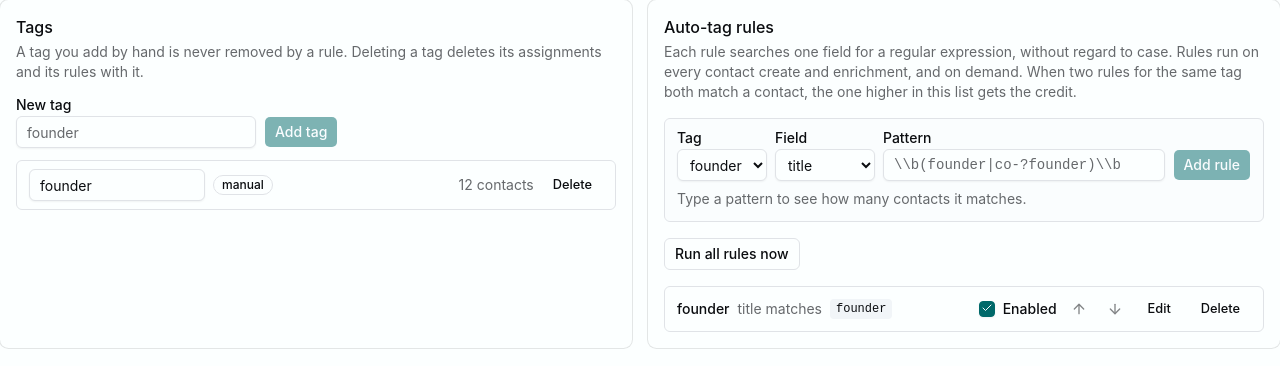
Test: tags › shows the server’s reason when a name is refused
Check: the button with aria-label "Delete founder" is shown, box [542, 171, 603, 199]
Type "Founder" into the field labelled "New tag" at {"x": 136, "y": 132}, box [16, 116, 256, 148]
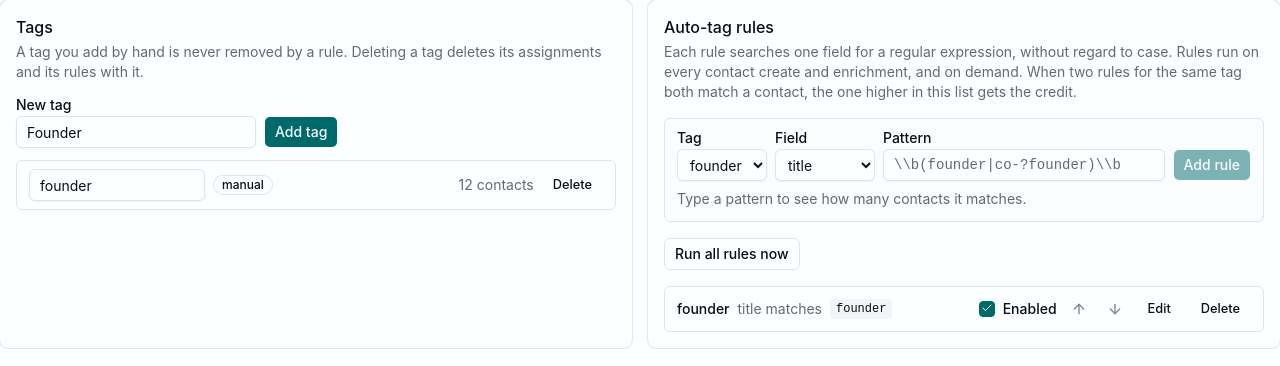
Click the button "Add tag" at {"x": 301, "y": 132}, box [264, 116, 338, 148]
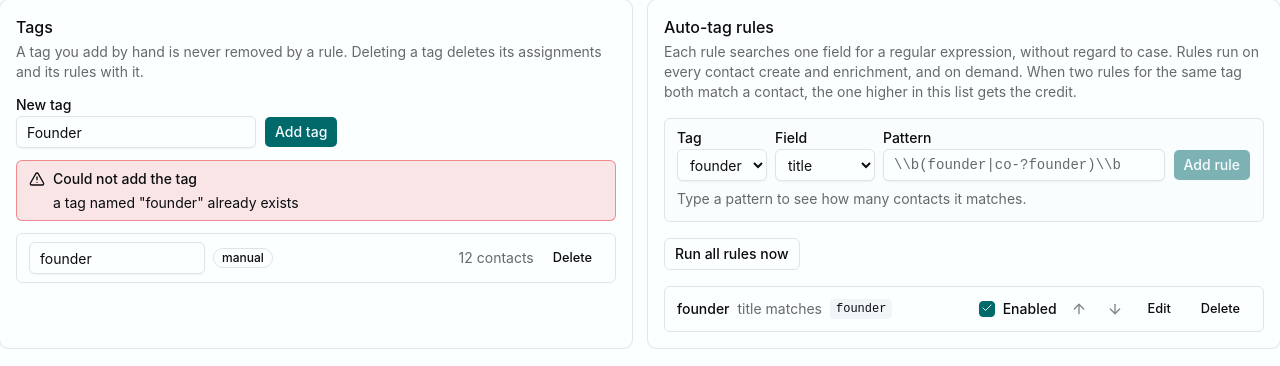
Check: the text "a tag named \"founder\" already exists" is shown, box [53, 193, 299, 212]
